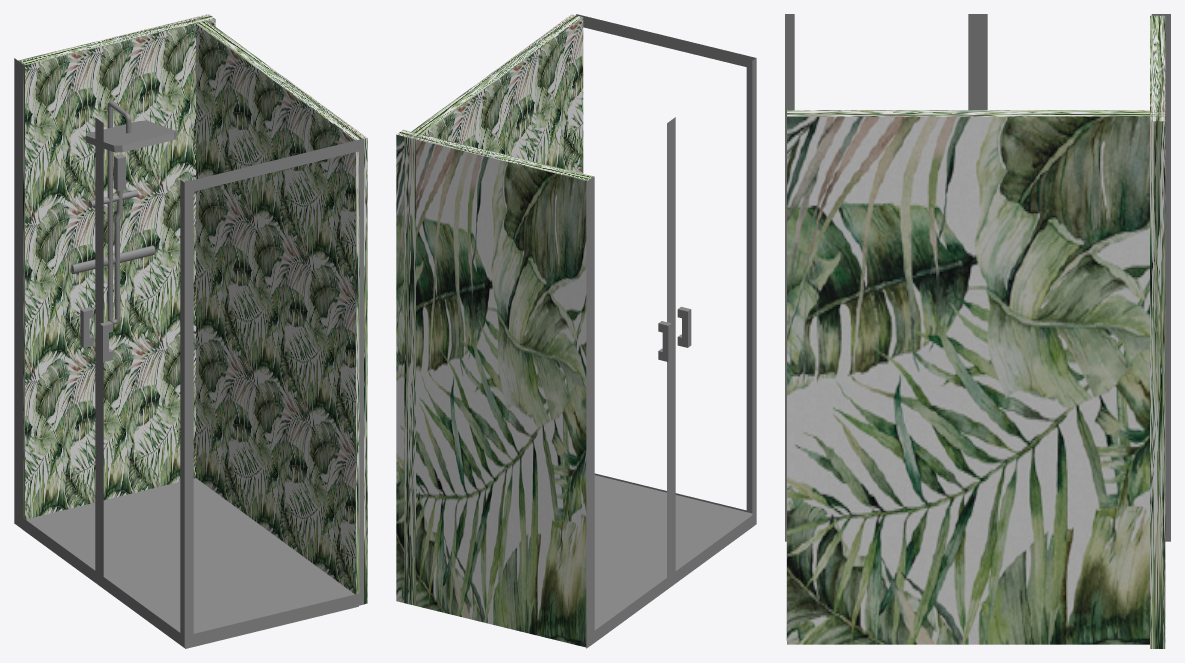
File: kinewall-4.glb
The picture shows the model from 3 angles, left to right: view 1: azimuth 30°, elevation 25°; view 2: azimuth 150°, elevation 25°; view 3: azimuth 270°, elevation 25°; orthographic projection. The views are drawn at different scales.
Parts seen in each view (by area): view 1: backwall, kinewall; view 2: backwall, kinewall; view 3: backwall, kinewall.
Boxes of the visible parts, <box> form: backwall: <box>18,14,367,605</box>; kinewall: <box>14,58,363,648</box>; backwall: <box>396,14,593,647</box>; kinewall: <box>576,14,756,648</box>; backwall: <box>787,15,1165,648</box>; kinewall: <box>785,14,1170,640</box>.
Bounding box in the file's own units: 3.46 × 7.73 × 5.1.
3 materials, 1 textured.
